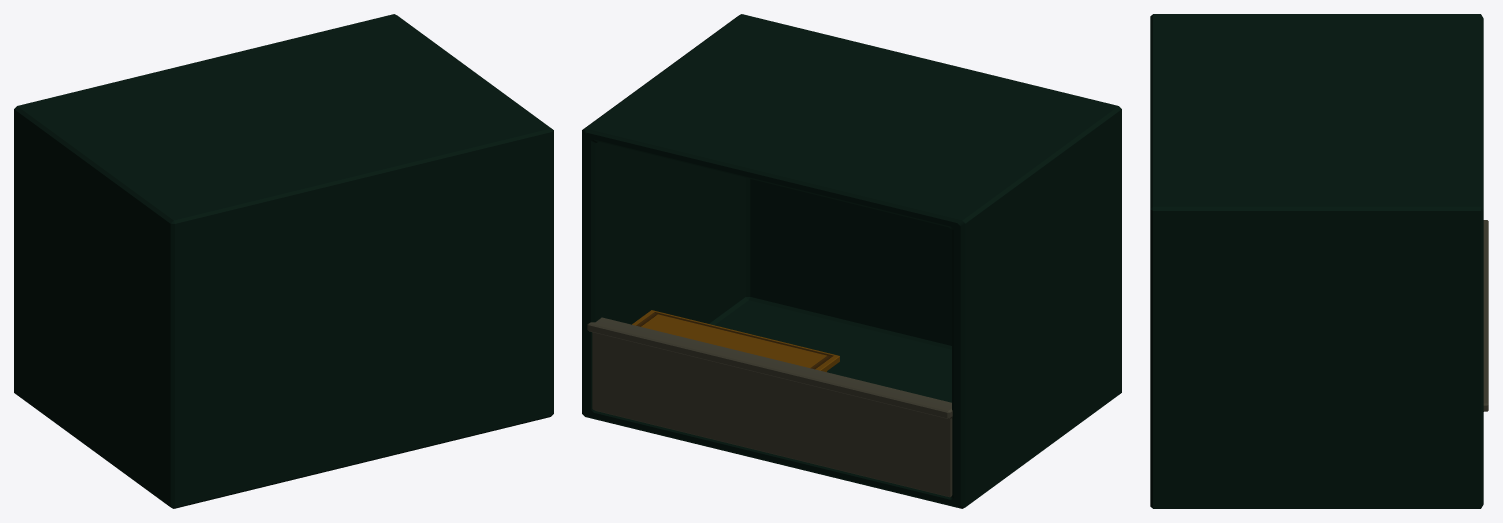
File: playerroom.fbx
3 renders of one model, left to right at view 1: azimuth 30°, elevation 25°; view 2: azimuth 150°, elevation 25°; view 3: azimuth 270°, elevation 25°, orthographic. The views are drawn at different scales.
Visible parts, largest first — view 1: pCylinder7; view 2: pCylinder7; view 3: pCylinder7.
Part boxes in pixels (x1,y1,x2,y2): pCylinder7: [14, 14, 553, 508]; pCylinder7: [582, 14, 1121, 508]; pCylinder7: [1150, 14, 1488, 508].
Size of the model in its own units: 208 by 150 by 152.
